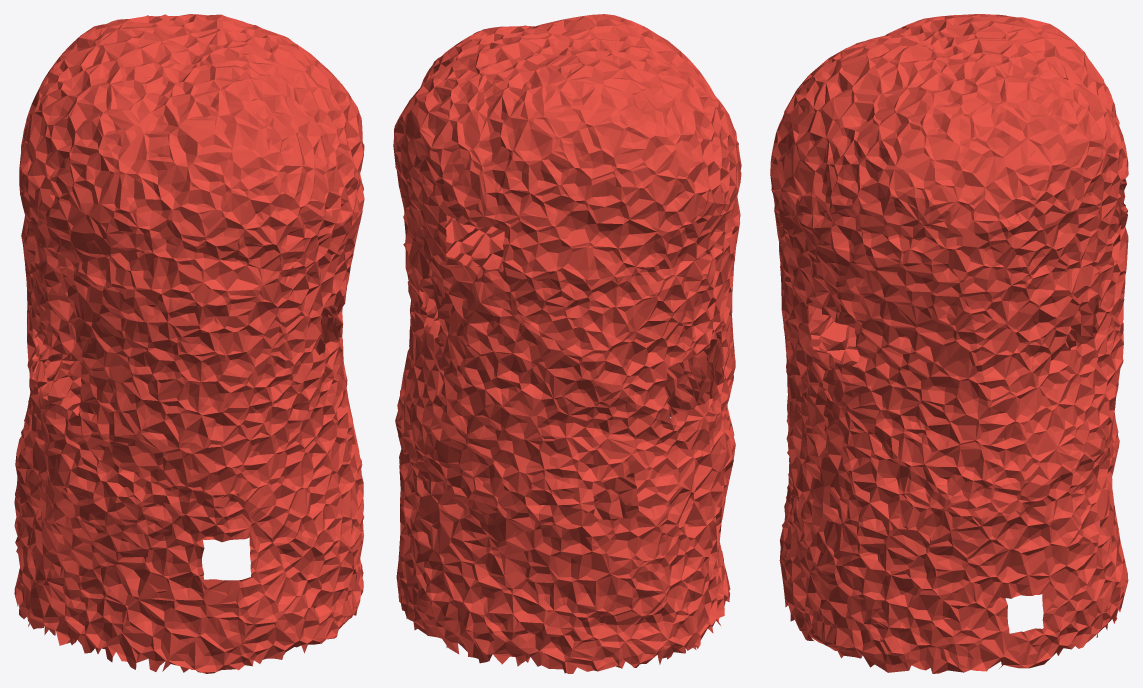
File: well.glb
The picture shows the model from 3 angles, left to right: view 1: azimuth 30°, elevation 25°; view 2: azimuth 150°, elevation 25°; view 3: azimuth 270°, elevation 25°; orthographic projection.
Parts seen in each view (by area): view 1: Cylinder.lp; view 2: Cylinder.lp; view 3: Cylinder.lp.
Boxes of the visible parts, x1=… form: Cylinder.lp: x1=14, y1=14, x2=364, y2=673; Cylinder.lp: x1=393, y1=14, x2=741, y2=673; Cylinder.lp: x1=770, y1=14, x2=1128, y2=673.
Bounding box in the file's own units: 58.72 × 103 × 59.14.
